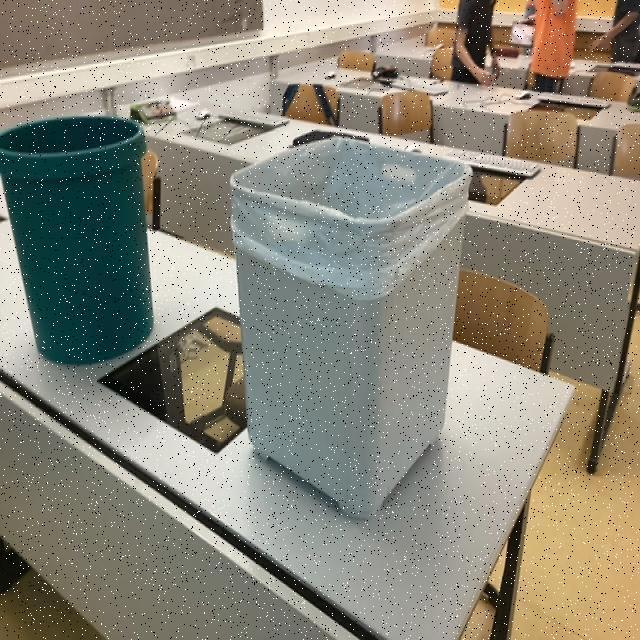garbage container: (213, 102, 495, 537), (1, 101, 162, 372)
